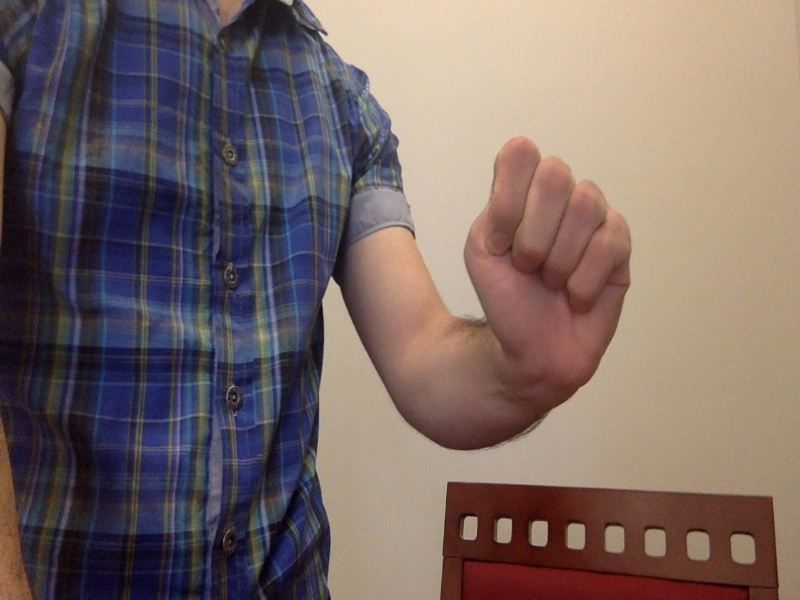0-hand: (462, 130, 636, 387)
